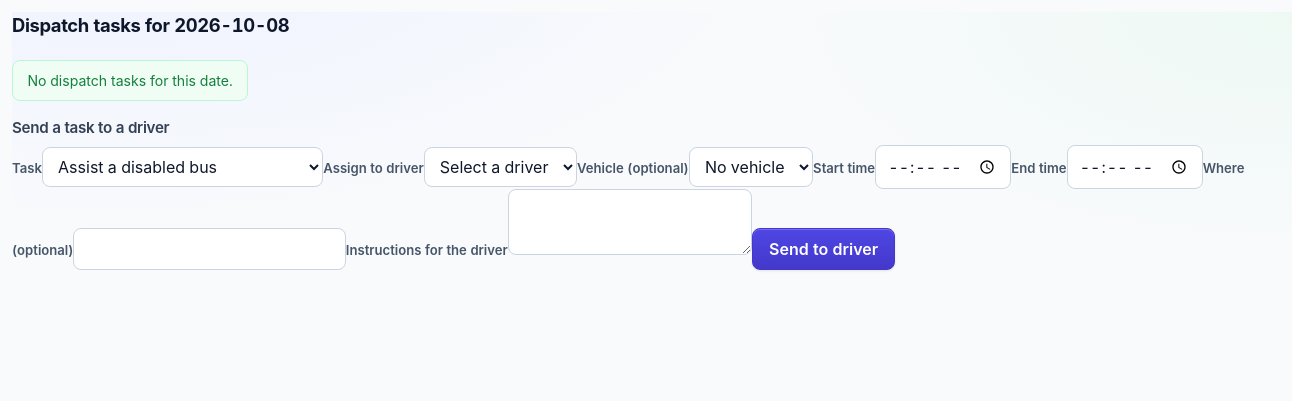
Test: DispatchTasksSection › shows why the server refused a task
Expected: the text "No dispatch tasks for this date." is shown, 12,60 -> 248,101
Select "Pat Driver" in the dropdown labelled "Assign to driver" at (500, 167), box 424,147 -> 577,187
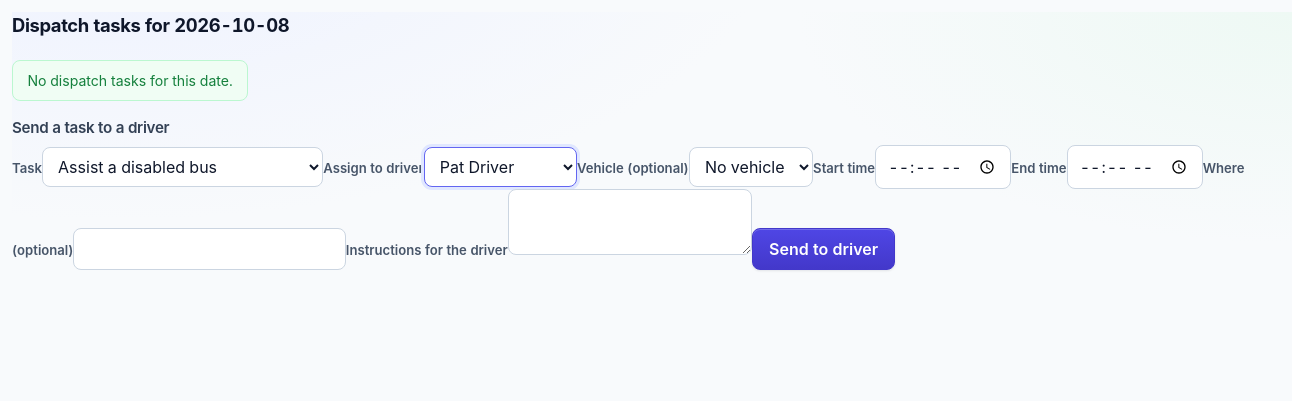
Type "09:00" into the time field labelled "Start time" at (943, 167), box 875,145 -> 1011,189
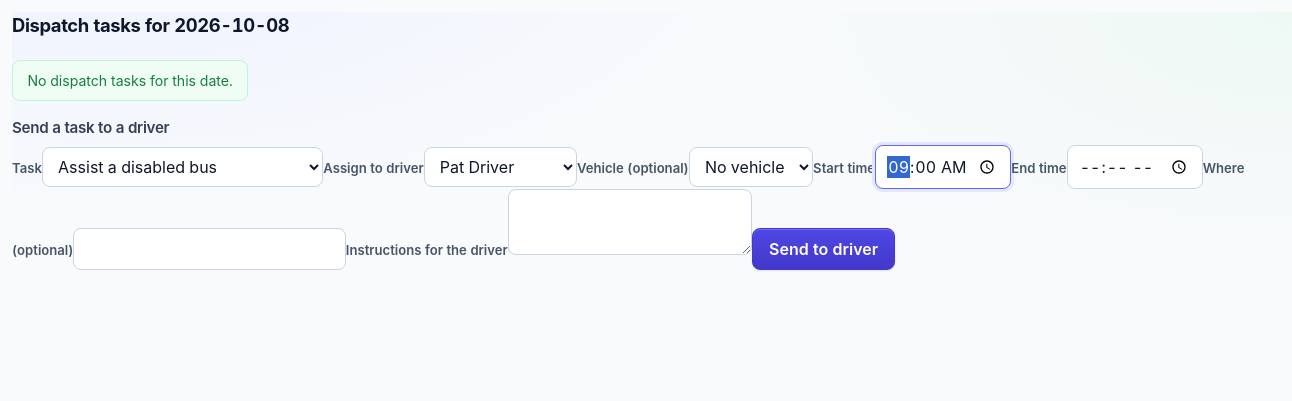
Type "10:00" into the time field labelled "End time" at (1135, 167), box 1066,145 -> 1203,189
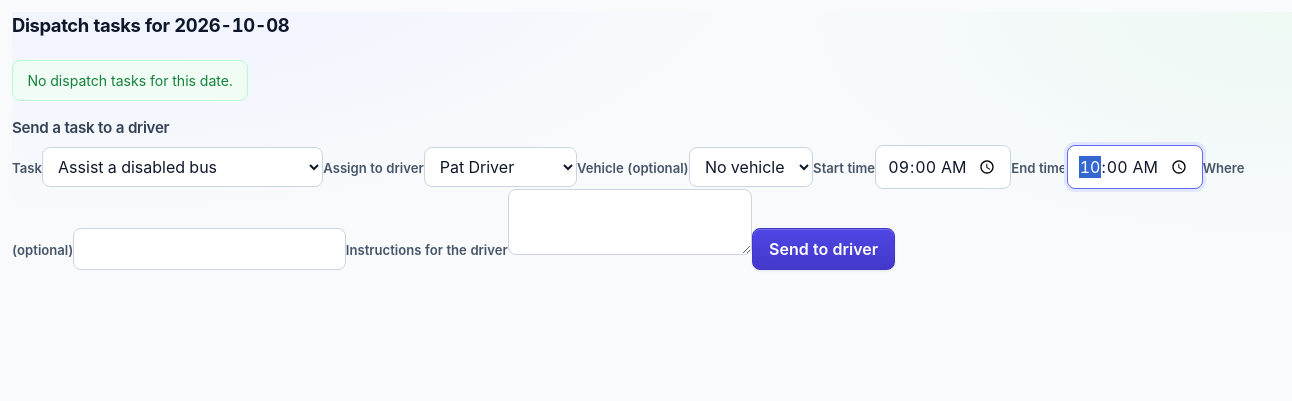
Type "Go." into the text box labelled "Instructions for the driver" at (630, 222), box 508,189 -> 752,255
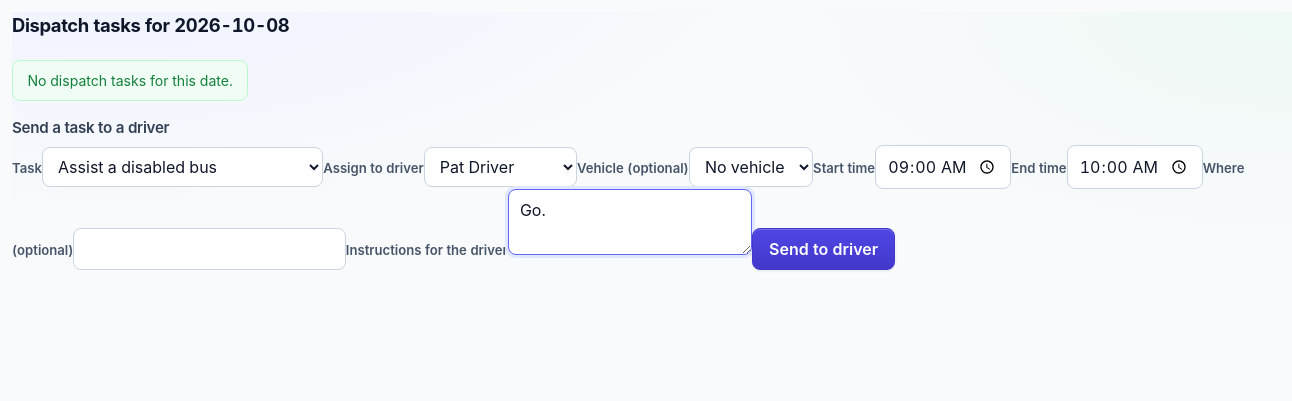
Click the button "Send to driver" at (824, 249), box 752,228 -> 895,270
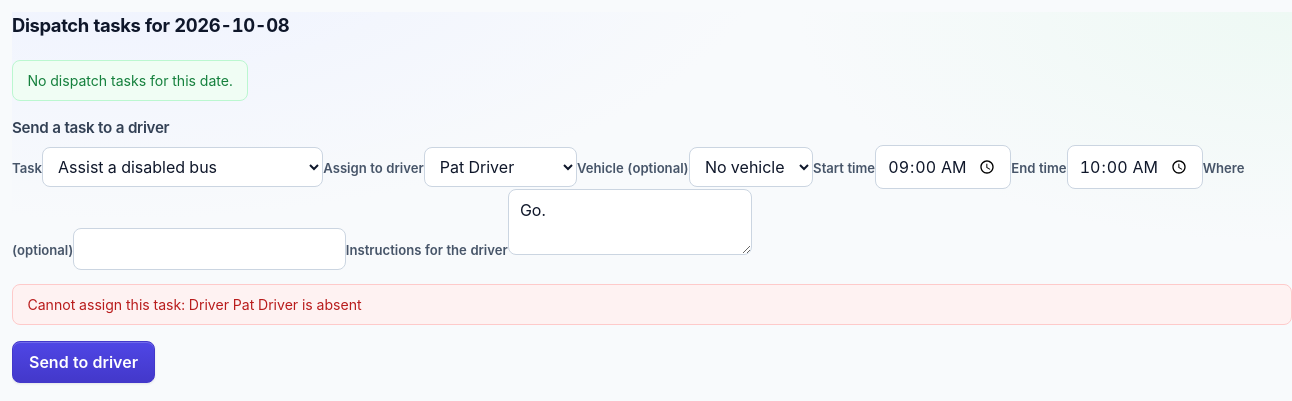
Expected: the message reads "Cannot assign this task: Driver Pat Driver is absent", 27,296 -> 362,313
